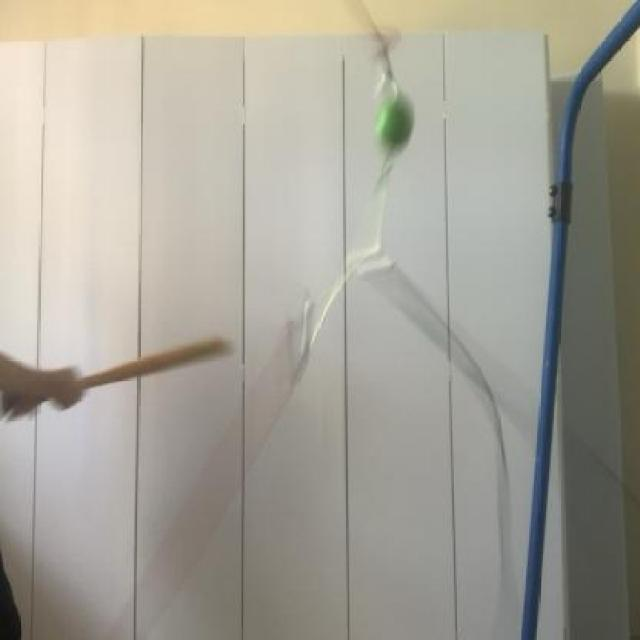baseball: (365, 78, 423, 170)
